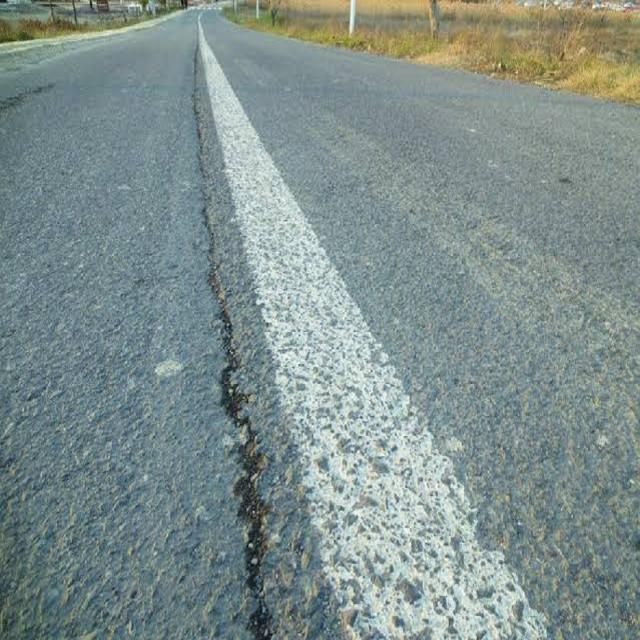Memanjang: (180, 35, 307, 640)
